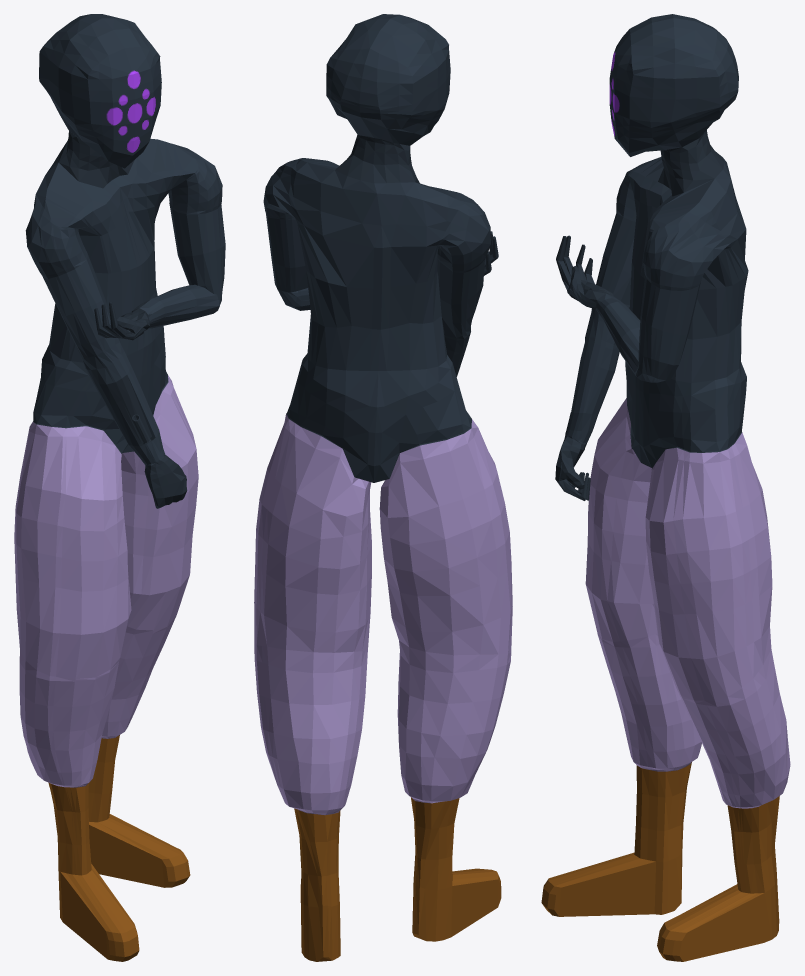
The model's file is Oracle_Reload_000017.obj.
3 renders of one model, left to right at view 1: azimuth 30°, elevation 25°; view 2: azimuth 150°, elevation 25°; view 3: azimuth 270°, elevation 25°, orthographic. The views are drawn at different scales.
Parts seen in each view (by area): view 1: Cube; view 2: Cube; view 3: Cube.
Boxes of the visible parts, x1,y1,x2,y2 form: Cube: (14, 14, 225, 961); Cube: (254, 14, 512, 961); Cube: (541, 14, 790, 961).
Size of the model in its own units: 0.9818 by 3.94 by 0.9762.
